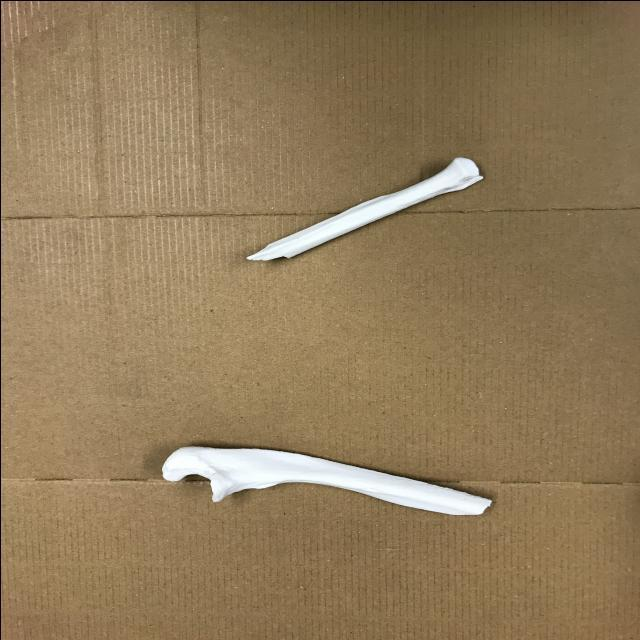bone: (236, 152, 484, 266), (158, 438, 490, 522)
